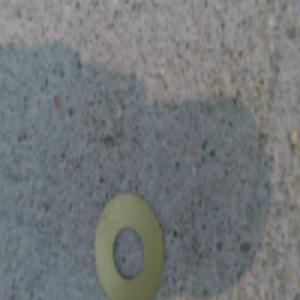Washer: (93, 185, 166, 299)
